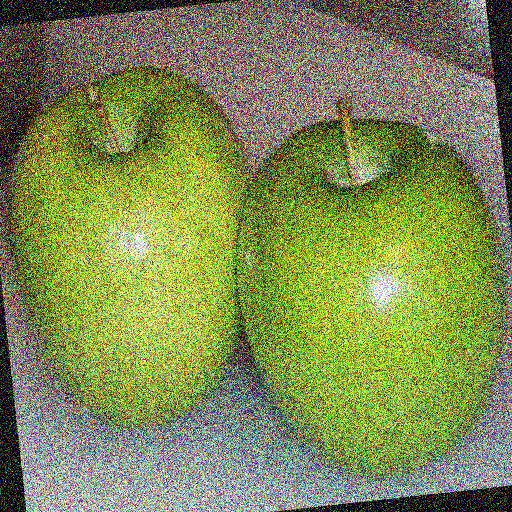fruit: (100, 147, 415, 512), (0, 144, 48, 452)
